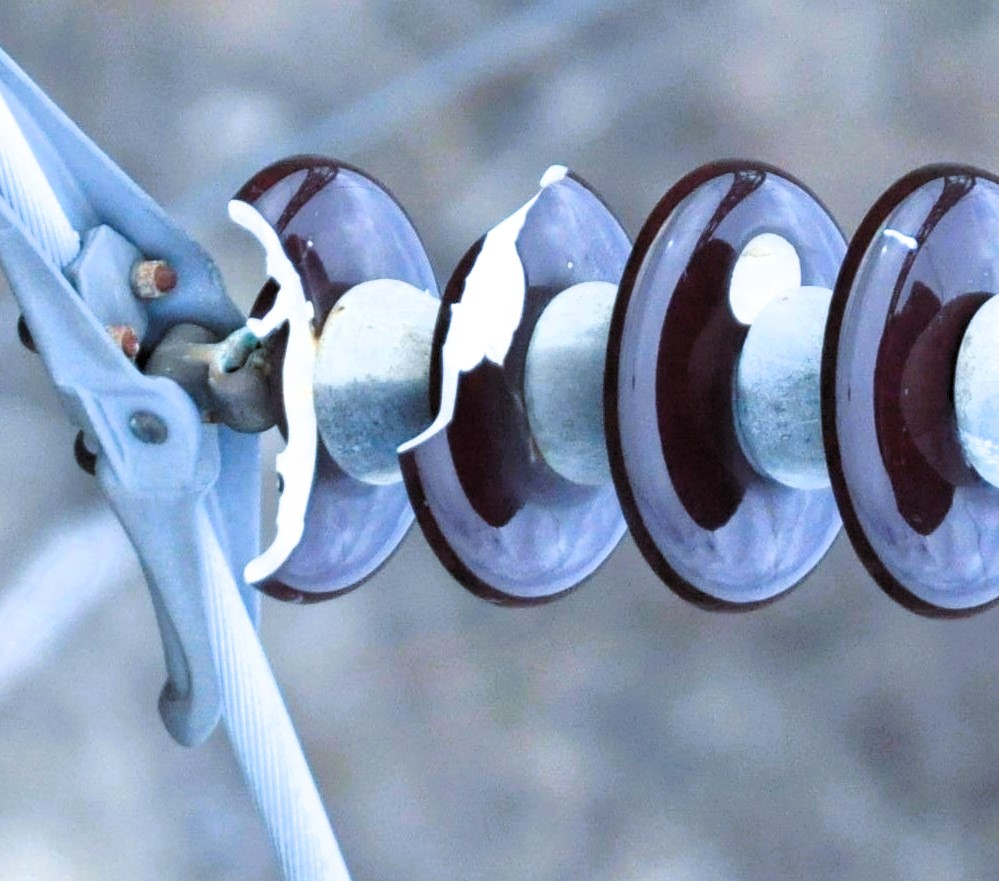insulator breakage: (396, 140, 608, 618), (204, 160, 389, 614)
